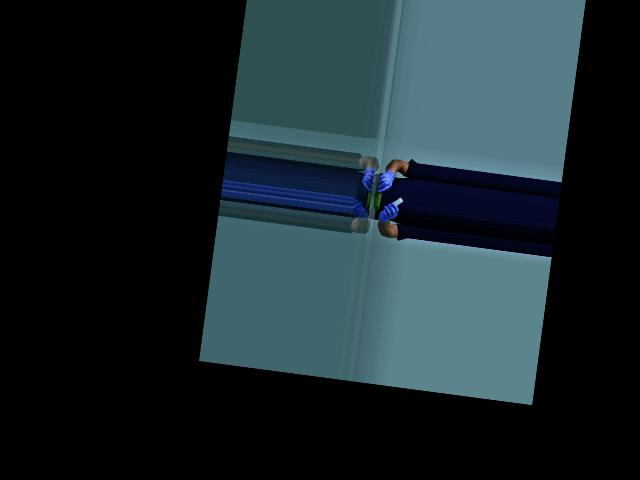cucumber: (372, 183, 383, 211)
